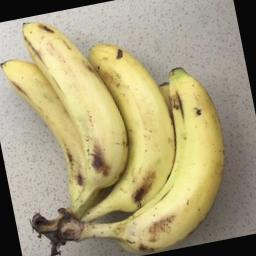Banana Ripe: (53, 33, 251, 256), (8, 4, 136, 230), (59, 18, 175, 224), (0, 31, 102, 231)
